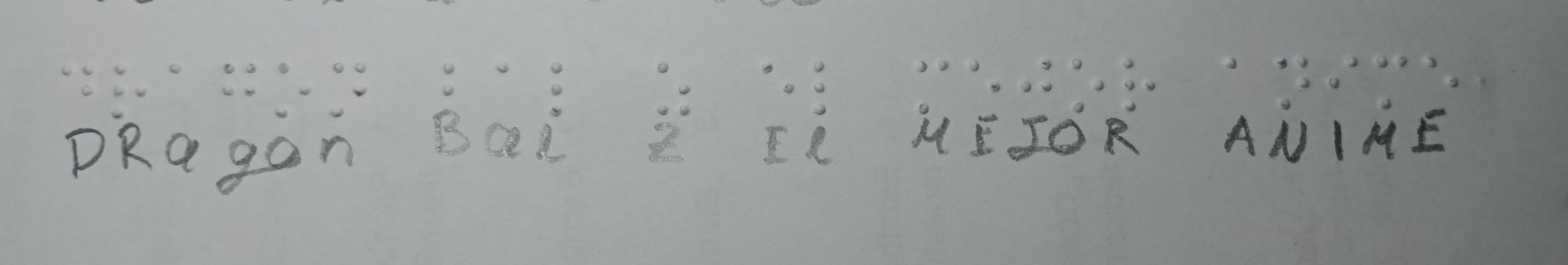a: (481, 47, 526, 97), (1208, 51, 1254, 93), (161, 55, 197, 94)
b: (426, 52, 476, 109)
d: (52, 56, 101, 114)
e: (1417, 39, 1468, 105), (750, 50, 803, 112), (959, 47, 1010, 111)
g: (210, 55, 264, 121)
i: (1319, 44, 1366, 110)
j: (1013, 46, 1063, 109)
l: (539, 46, 577, 123), (806, 47, 843, 120)
m: (903, 47, 957, 117), (1368, 39, 1411, 117)
n: (319, 52, 376, 125), (1262, 50, 1317, 115)
o: (267, 55, 317, 127), (1068, 50, 1109, 121)
r: (1114, 51, 1169, 119), (104, 65, 155, 120)
z: (643, 48, 709, 120)
